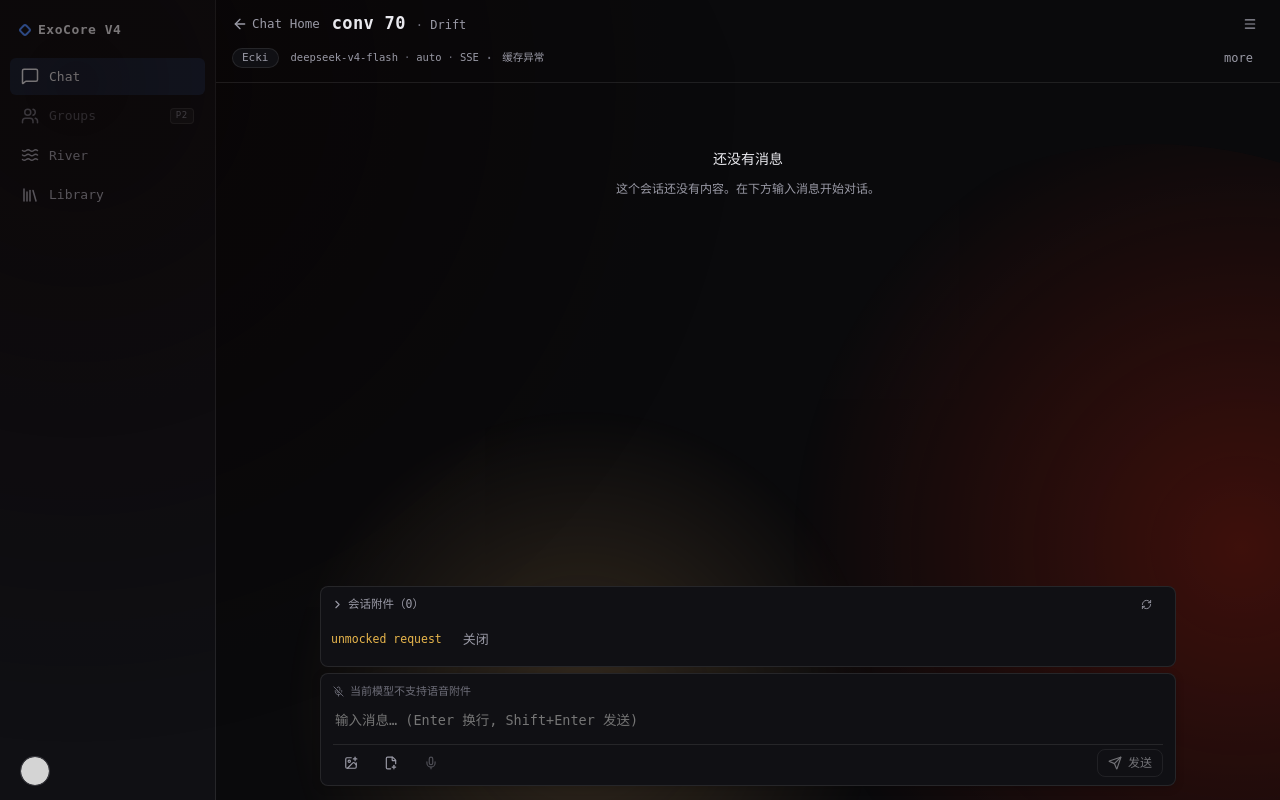
C1B-R1 repair invariants — canonical reconciliation (R1-03) › append terminal near bottom rebuilds a fresh canonical window (offset 0 only, no stale page refetch)
Type "提问" into the text box named "消息输入框" at (748, 720), box [333,708,1163,732]
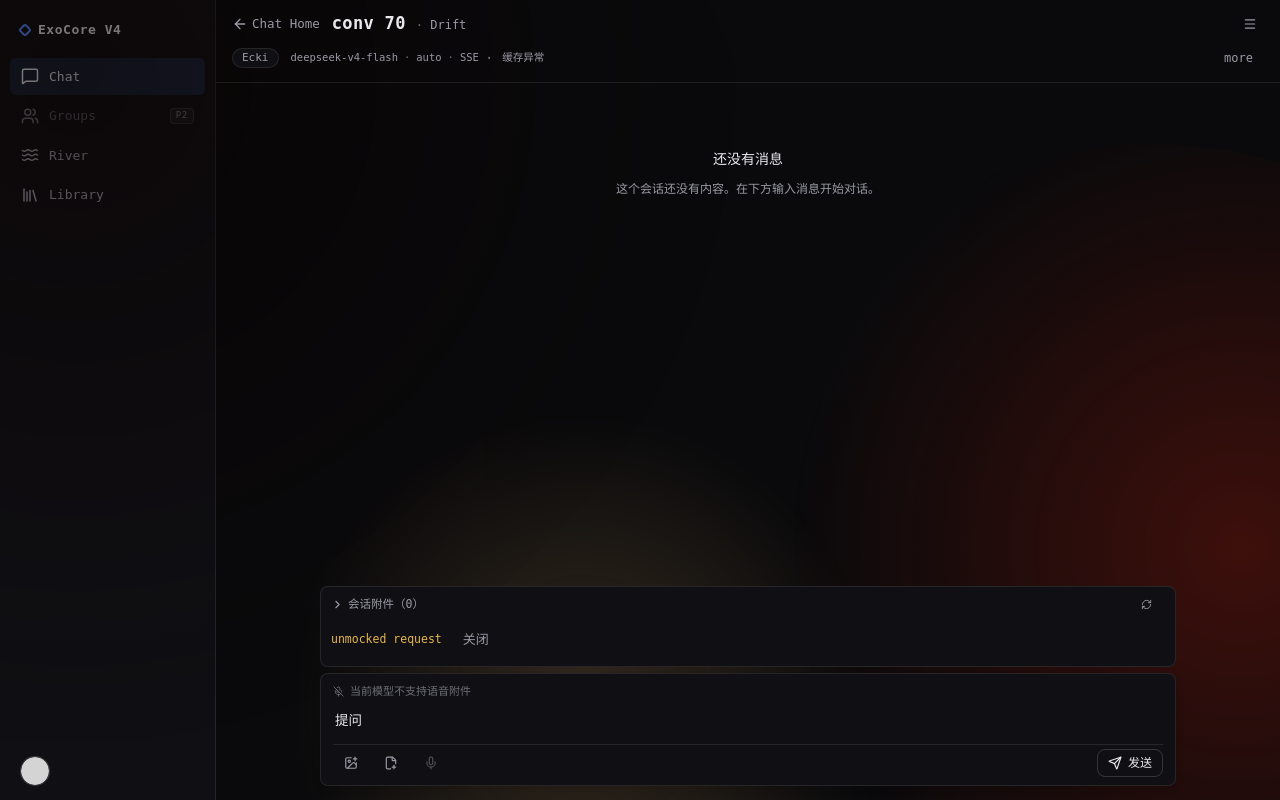
Press Enter in the text box named "消息输入框", box [333,708,1163,732]
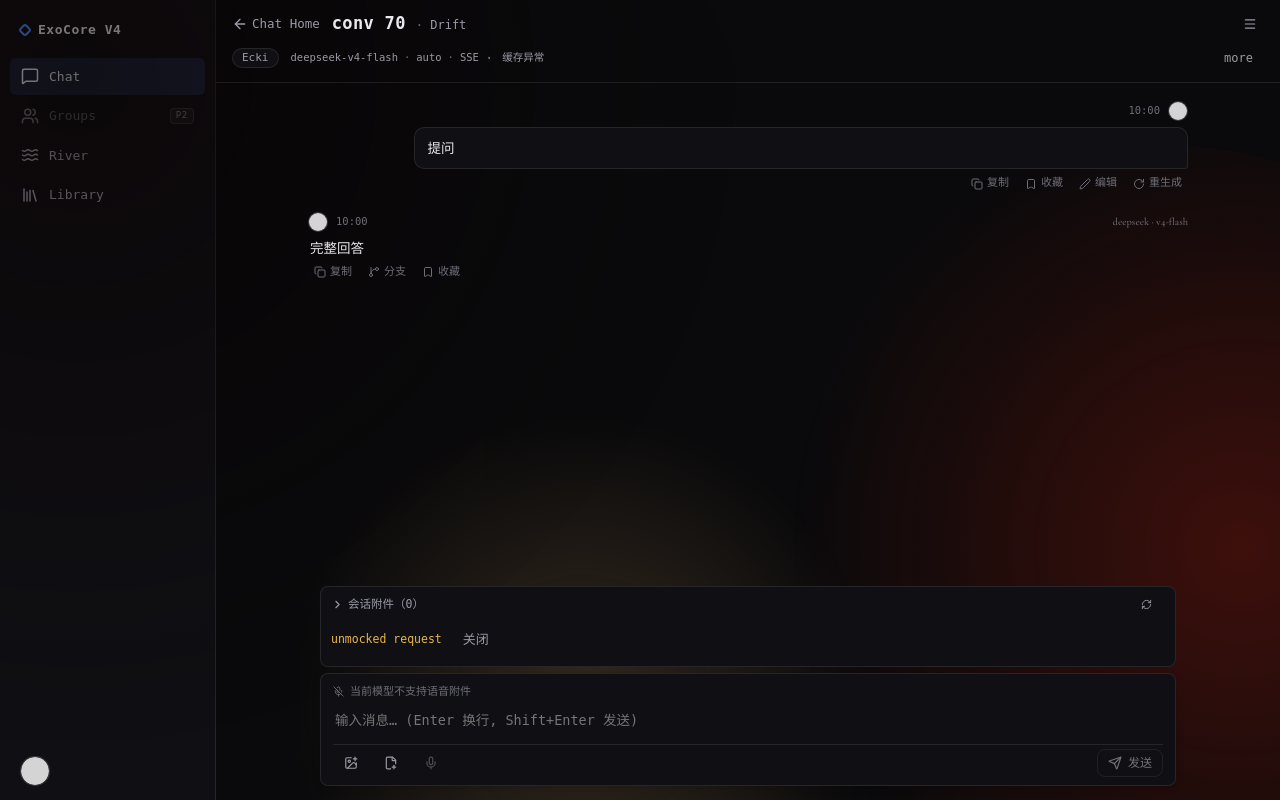
Result: the text "完整回答" is shown at [310,240,364,256]
